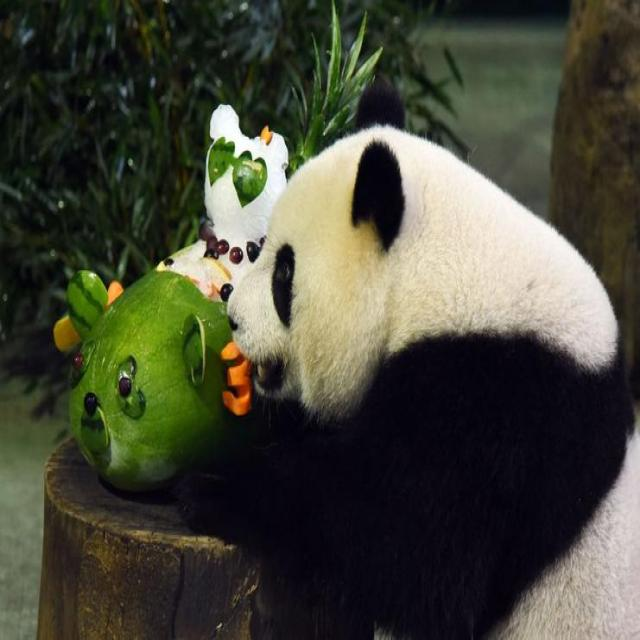panda: (167, 122, 637, 638)
